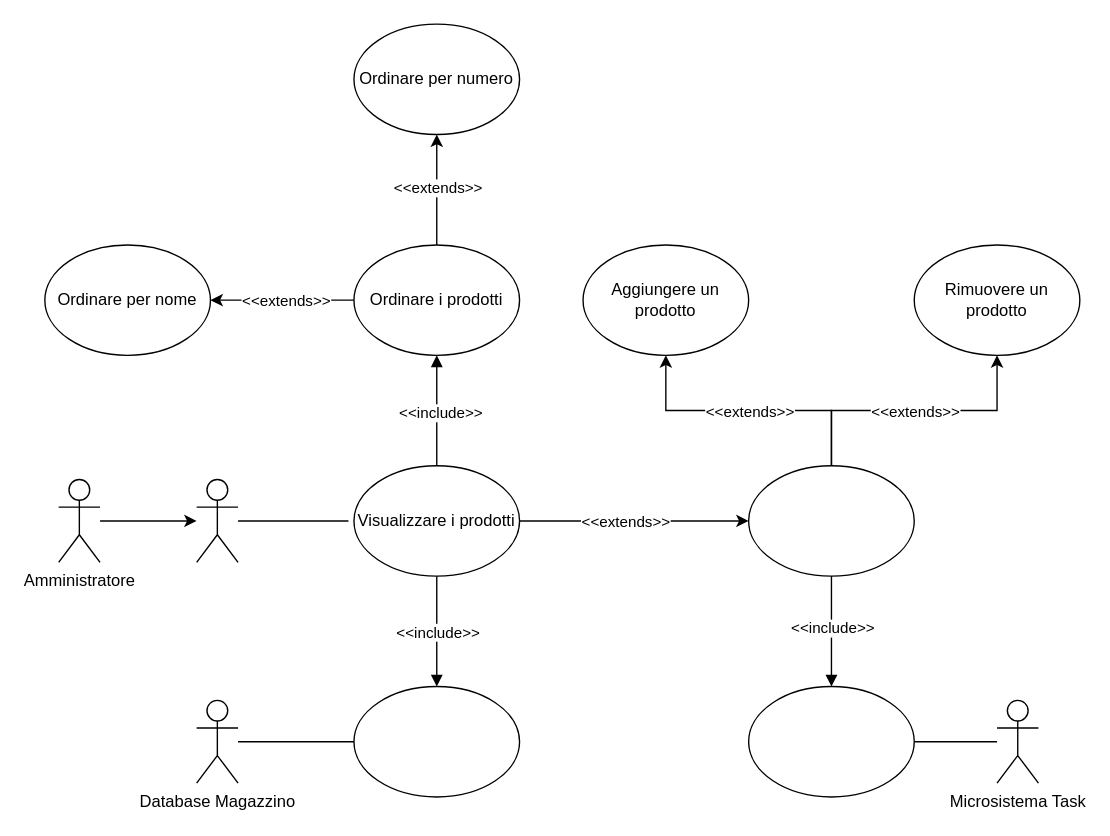
Image size: 1110x836. Some labels were removed from this diagram. The shapes that lost their labels are listed below. From the top down, each one's box as (x1, y1, x2, y2) in pixels, then its label:
(195, 478, 238, 562): Dipendente
(747, 464, 914, 576): Gestire i prodotti
(353, 685, 520, 797): Fornire lista prodotti
(747, 685, 914, 797): Consentire gestione dei prodotti
